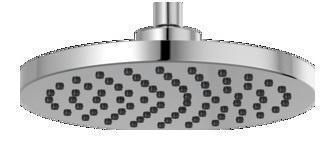Ducha: (19, 0, 316, 132)
